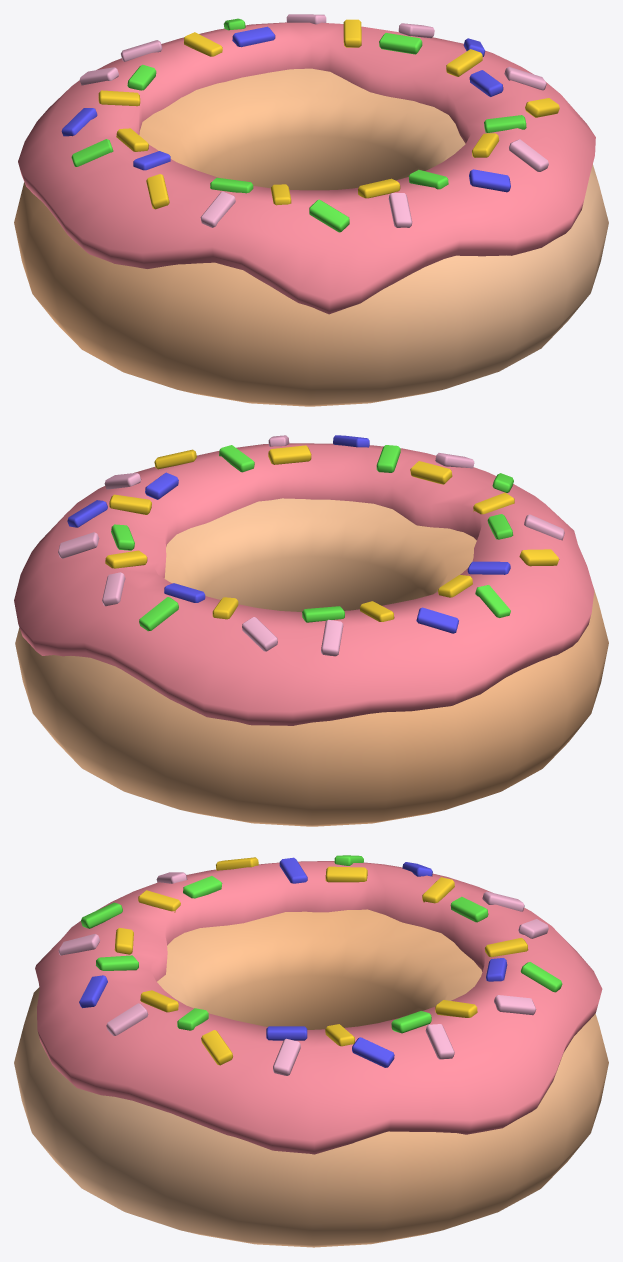
The model's file is Donut_pink.fbx.
3 renders of one model, top to bottom at view 1: azimuth 30°, elevation 25°; view 2: azimuth 150°, elevation 25°; view 3: azimuth 270°, elevation 25°, orthographic.
Parts seen in each view (by area): view 1: Donut_pink; view 2: Donut_pink; view 3: Donut_pink.
Part boxes in pixels (bbox=[...]): Donut_pink: bbox=[14, 14, 608, 406]; Donut_pink: bbox=[14, 435, 608, 826]; Donut_pink: bbox=[14, 855, 608, 1247].
Size of the model in its own units: 11.54 by 4.35 by 11.51.
